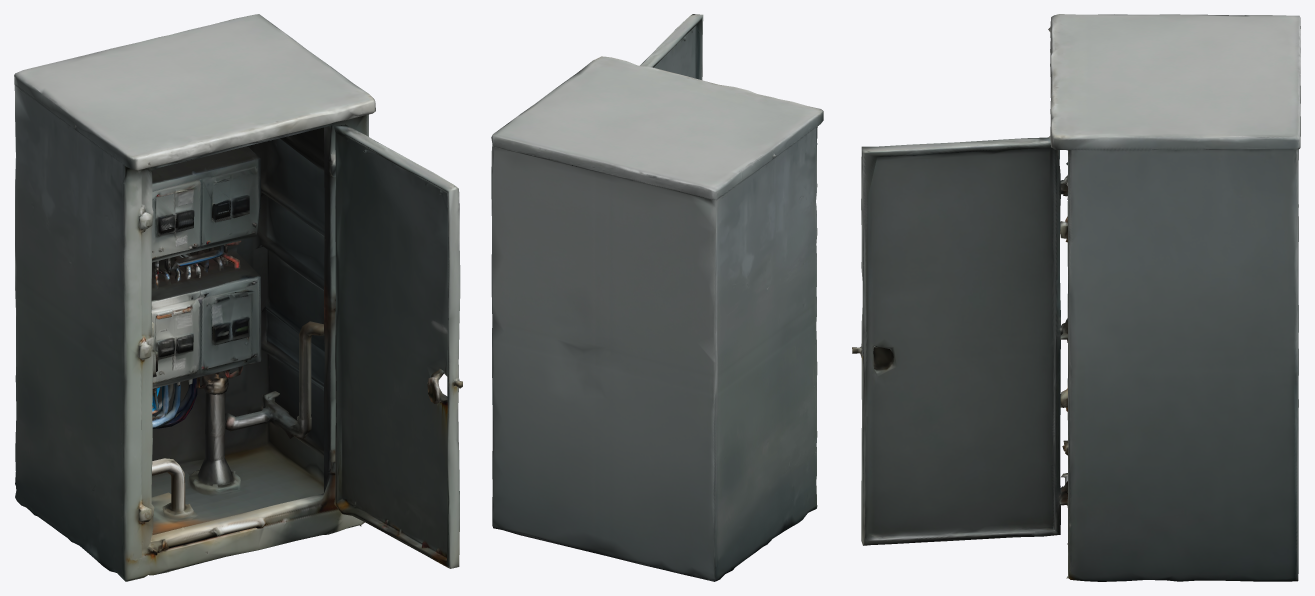
Rendered from switch_cabinet.fbx.
The picture shows the model from 3 angles, left to right: view 1: azimuth 30°, elevation 25°; view 2: azimuth 150°, elevation 25°; view 3: azimuth 270°, elevation 25°; orthographic projection. The views are drawn at different scales.
Visible parts, largest first — view 1: switch_cabinet; view 2: switch_cabinet; view 3: switch_cabinet.
Boxes of the visible parts, x1,y1,x2,y2 form: switch_cabinet: (14, 14, 462, 581); switch_cabinet: (491, 14, 823, 581); switch_cabinet: (852, 14, 1300, 581).
Bounding box in the file's own units: 1.21 × 2 × 1.82.
1 material, 1 textured.
